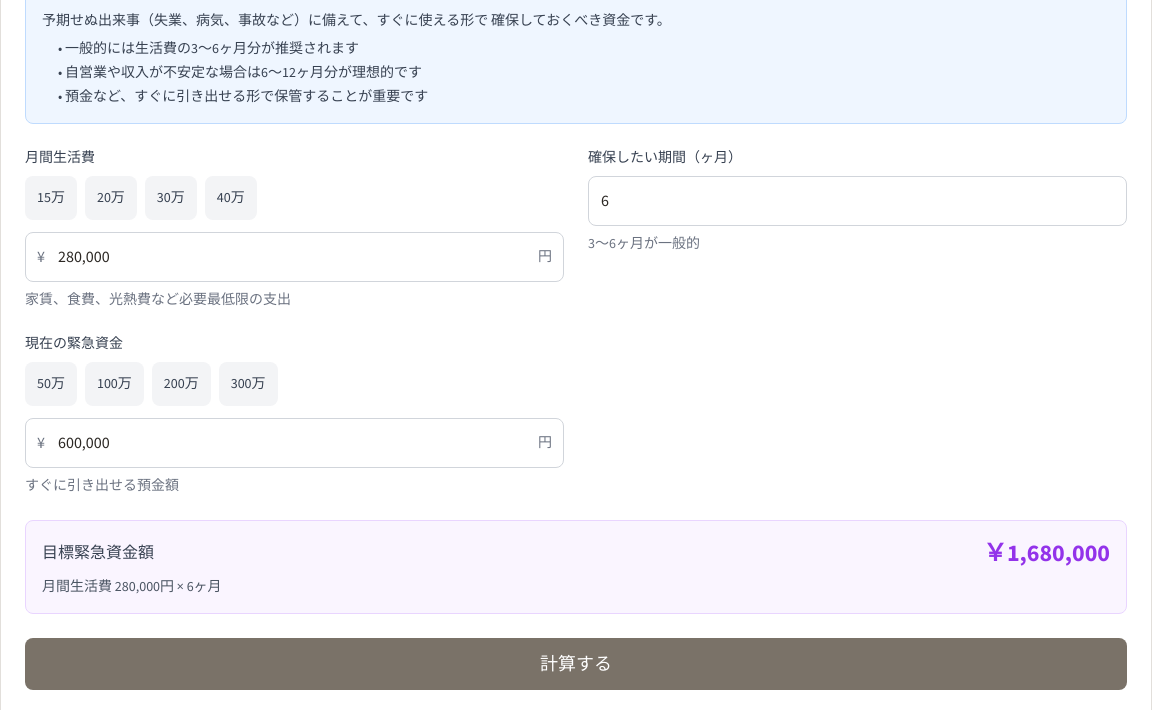
Test case: EmergencyFundCalculator › 結果表示 › 充足時に成功メッセージが表示される
This screenshot has width=1152, height=710.
(page scrolled)
Click the button "計算する".
click(576, 664)  # box [25, 638, 1127, 690]
(page scrolled)
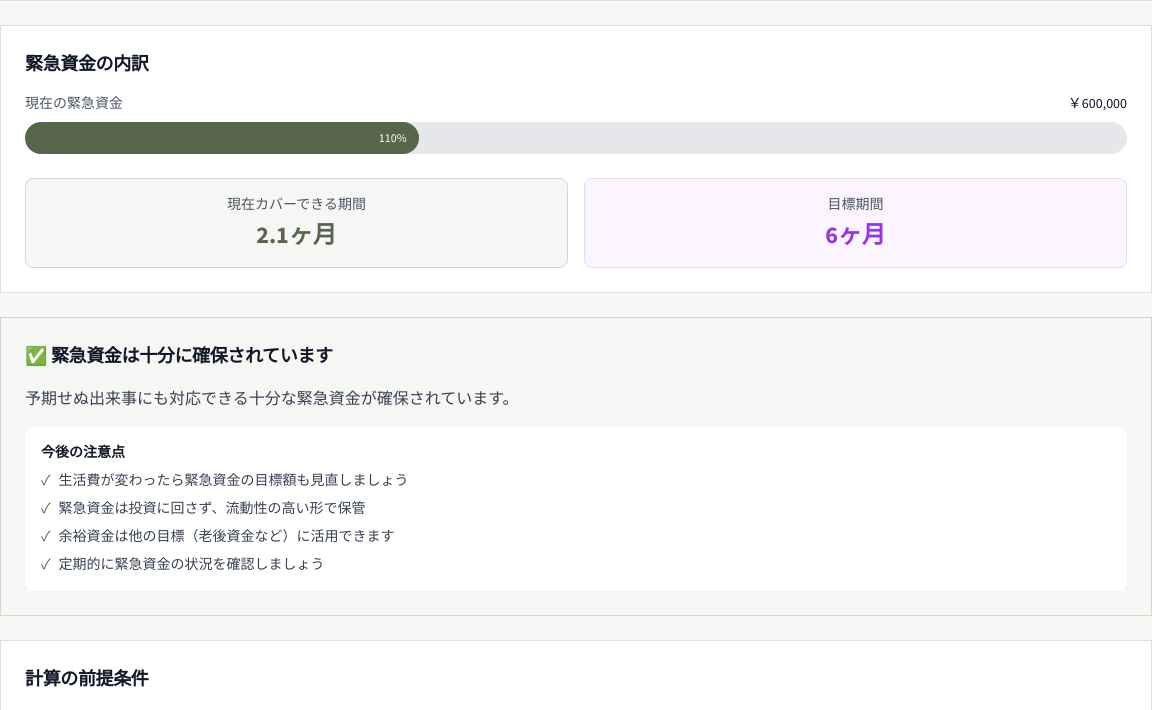
Expected: the heading "✅ 緊急資金は十分に確保されています" is shown, [25, 345, 333, 367]
